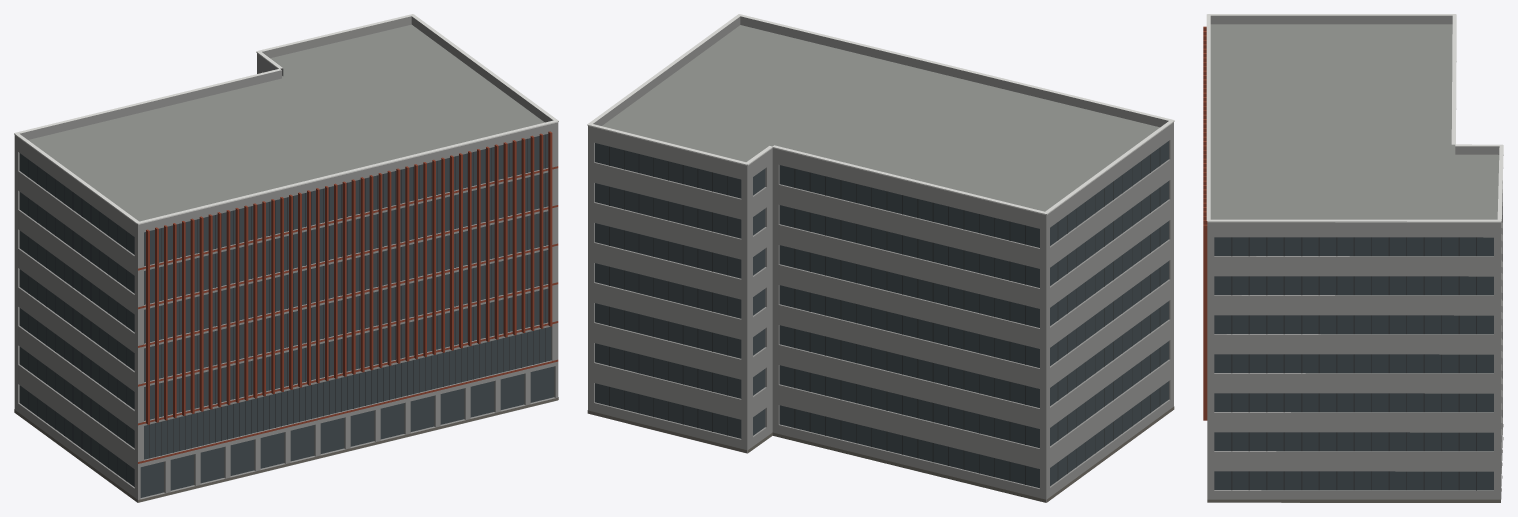
3 views of the same model, side by side, from view 1: azimuth 30°, elevation 25°; view 2: azimuth 150°, elevation 25°; view 3: azimuth 270°, elevation 25° (orthographic). The views are drawn at different scales.
Visible parts, largest first — view 1: haebong__glass, haebong__roof, haebong__wall2, haebong__wall, haebong__frame, haebong__parapet, haebong__trim, haebong__base; view 2: haebong__wall, haebong__glass, haebong__roof, haebong__parapet, haebong__frame, haebong__trim, haebong__base; view 3: haebong__roof, haebong__wall, haebong__glass, haebong__parapet, haebong__trim, haebong__frame, haebong__wall2, haebong__base.
Boxes of the visible parts, x1,y1,x2,y2 form: haebong__glass: [19, 134, 554, 497]; haebong__roof: [28, 24, 557, 502]; haebong__wall2: [138, 131, 558, 463]; haebong__wall: [14, 60, 558, 502]; haebong__frame: [28, 134, 545, 481]; haebong__parapet: [14, 16, 558, 231]; haebong__trim: [14, 14, 558, 224]; haebong__base: [14, 397, 558, 502]; haebong__wall: [588, 129, 1173, 502]; haebong__glass: [595, 141, 1168, 488]; haebong__roof: [602, 25, 1159, 502]; haebong__parapet: [588, 16, 1173, 222]; haebong__frame: [609, 146, 1160, 484]; haebong__trim: [587, 14, 1174, 214]; haebong__base: [587, 406, 1174, 502]; haebong__roof: [1210, 24, 1499, 502]; haebong__wall: [1207, 182, 1502, 499]; haebong__glass: [1214, 237, 1493, 490]; haebong__parapet: [1207, 15, 1501, 229]; haebong__trim: [1206, 14, 1503, 222]; haebong__frame: [1231, 237, 1476, 490]; haebong__wall2: [1203, 26, 1207, 420]; haebong__base: [1207, 424, 1503, 502].
Size of the model in its own units: 42.22 by 26.72 by 25.83.
